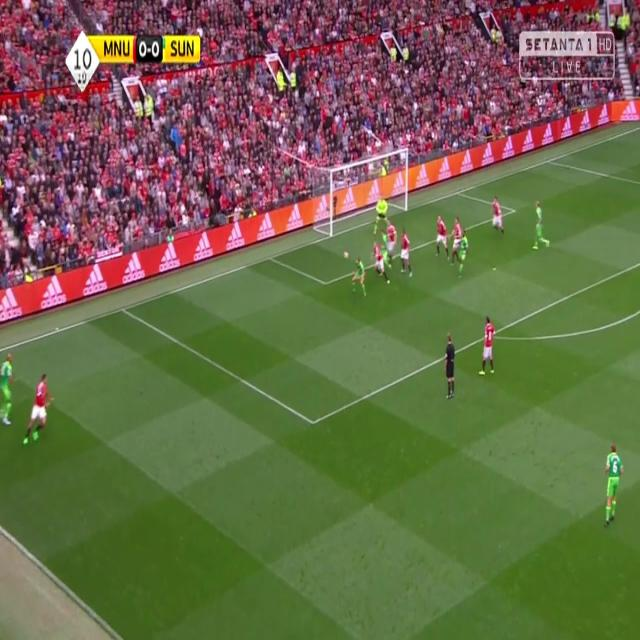Ball: (342, 248, 350, 264)
Goalkeeper: (372, 192, 390, 238)
Player: (20, 372, 55, 448), (600, 441, 626, 530), (477, 312, 497, 380), (0, 353, 18, 427), (531, 198, 552, 254), (369, 240, 392, 286), (488, 194, 508, 238), (432, 213, 450, 261), (350, 258, 367, 302), (400, 229, 414, 281), (450, 213, 462, 269), (458, 229, 471, 276), (379, 239, 395, 274), (384, 218, 398, 258)
Referee: (442, 329, 458, 404)
